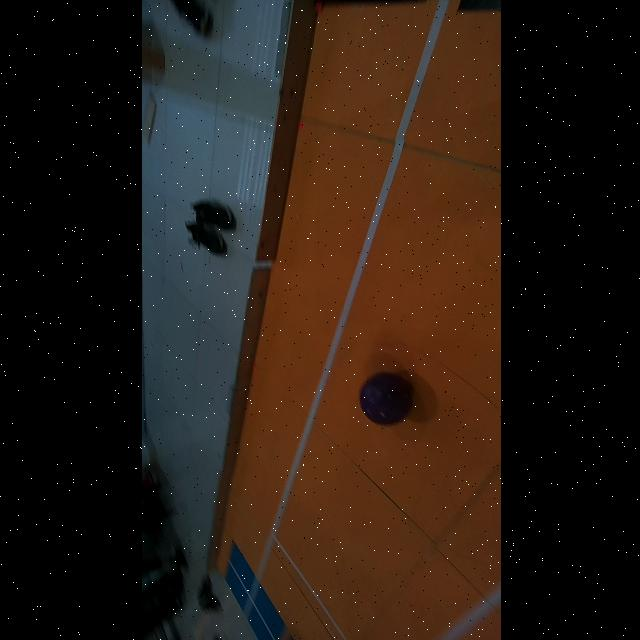P: (358, 372, 411, 426)
